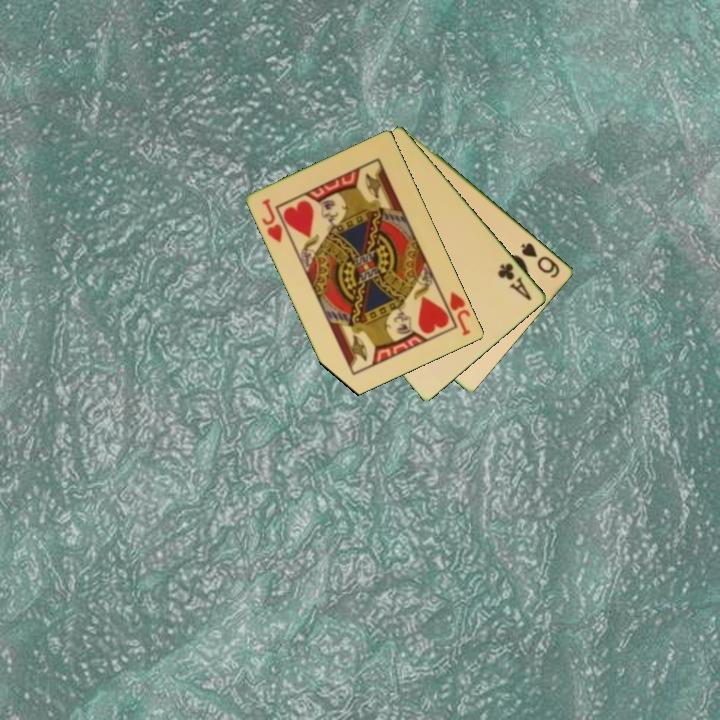6s: (517, 239, 563, 281)
Ac: (494, 259, 535, 304)
Jh: (438, 288, 474, 339), (259, 195, 286, 245)
